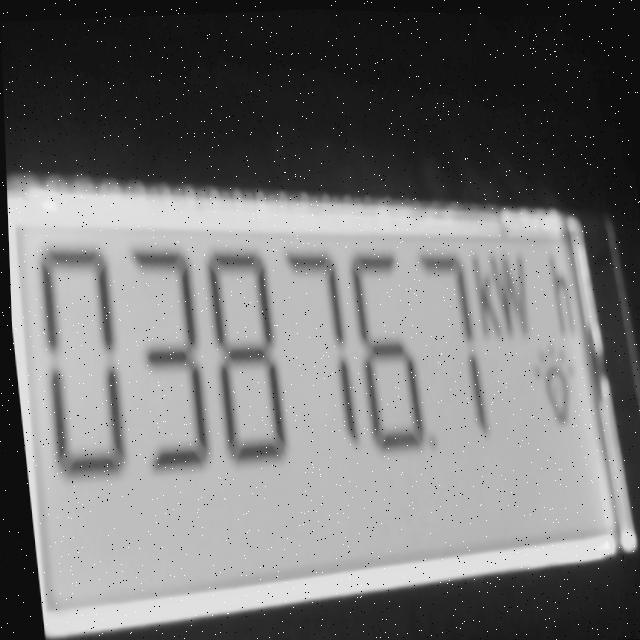.: (424, 426, 436, 452)
0: (37, 243, 124, 478)
3: (132, 244, 210, 468)
6: (349, 248, 422, 449)
7: (283, 243, 355, 449), (417, 246, 488, 439)
8: (204, 246, 285, 465)
